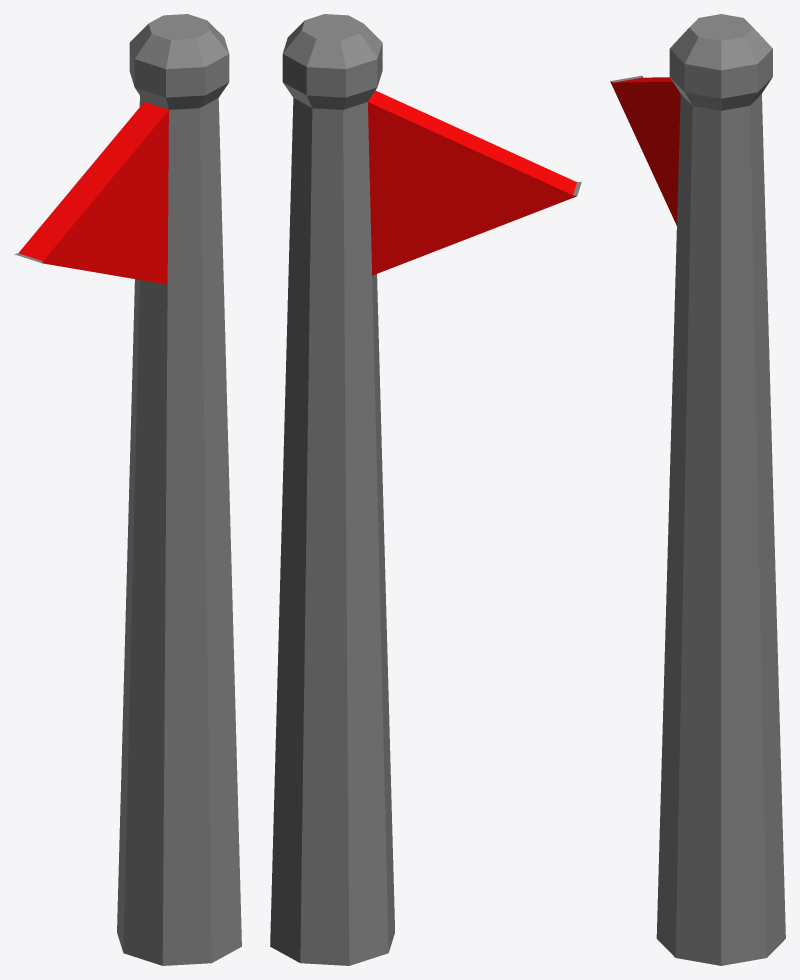
The model's file is pole.fbx.
3 renders of one model, left to right at view 1: azimuth 30°, elevation 25°; view 2: azimuth 150°, elevation 25°; view 3: azimuth 270°, elevation 25°, orthographic.
Visible parts, largest first — view 1: Cylinder; view 2: Cylinder; view 3: Cylinder.
Boxes of the visible parts, x1,y1,x2,y2 form: Cylinder: (14, 14, 241, 965); Cylinder: (270, 14, 581, 965); Cylinder: (610, 14, 785, 965).
Bounding box in the file's own units: 466 × 1556 × 272.
